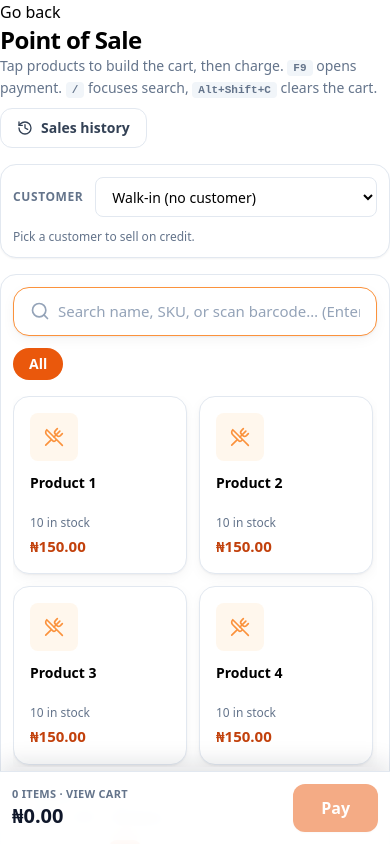
PosPage product grid › opens the mobile cart as a bottom sheet with its own Pay action
Expected: the text "Product 1" is shown, [30, 472, 96, 492]
Click the button with aria-label "View cart, 0 items": {"x": 39, "y": 793} [12, 786, 281, 830]
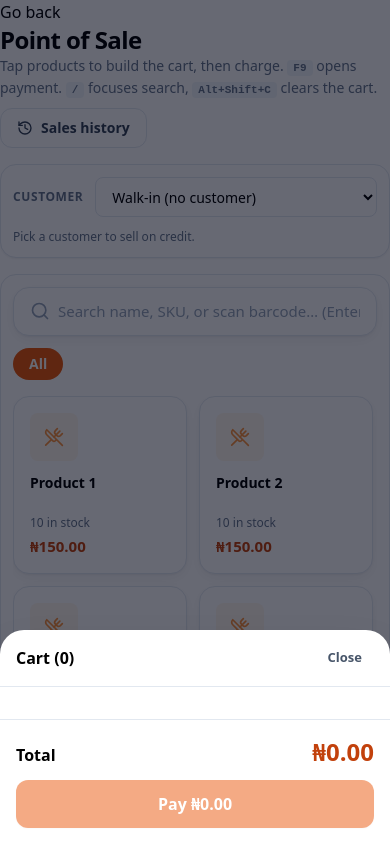
Result: the dialog "Cart" is shown at [0, 630, 389, 843]
